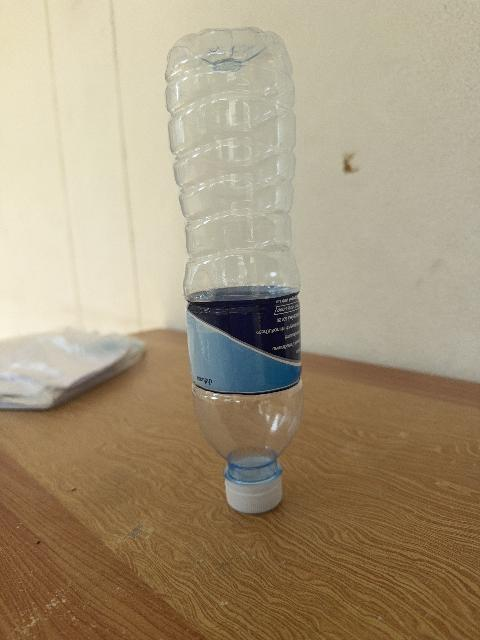bottle: (166, 28, 303, 513)
